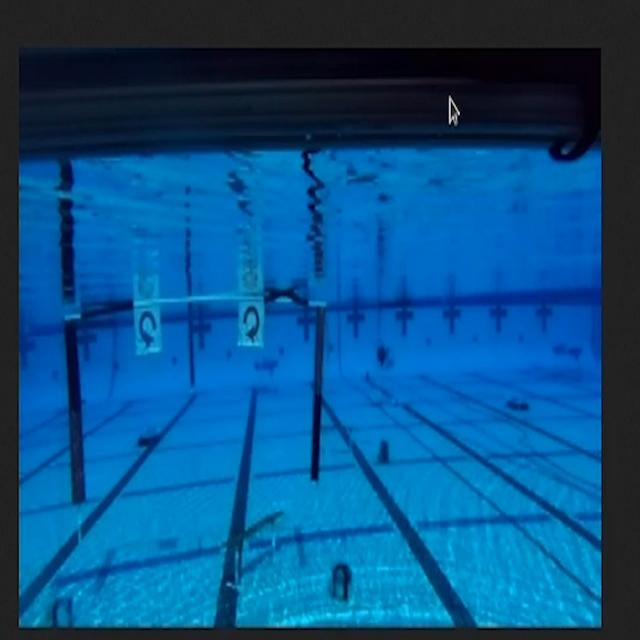Gate: (63, 303, 326, 479)
